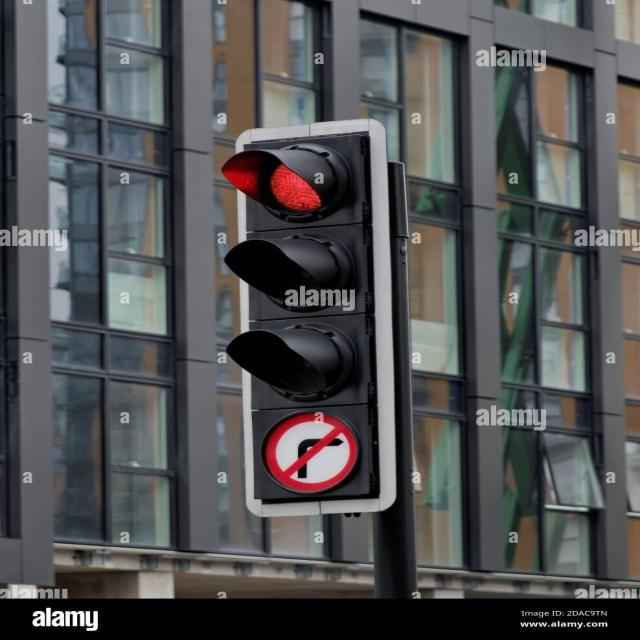red: (210, 123, 379, 244)
